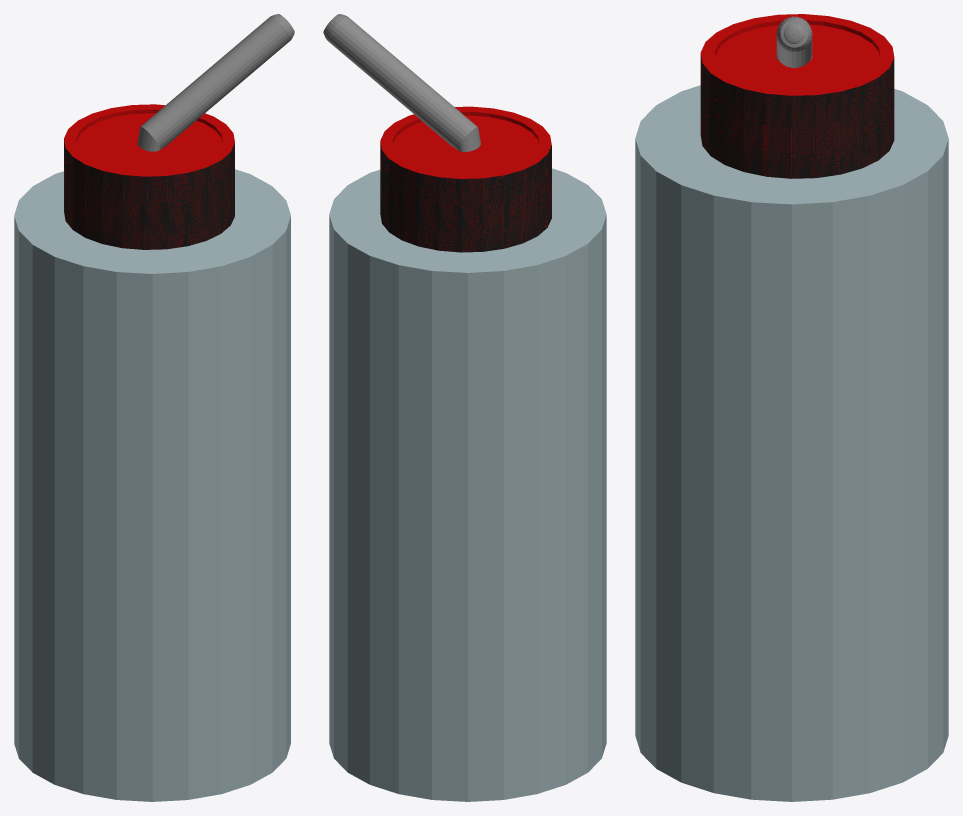
3 renders of one model, left to right at view 1: azimuth 30°, elevation 25°; view 2: azimuth 150°, elevation 25°; view 3: azimuth 270°, elevation 25°, orthographic. The views are drawn at different scales.
Visible parts, largest first — view 1: mesh1.001_mesh1-geometry, mesh2.002_mesh2-geometry, mesh3.002_mesh3-geometry; view 2: mesh1.001_mesh1-geometry, mesh2.002_mesh2-geometry, mesh3.002_mesh3-geometry; view 3: mesh1.001_mesh1-geometry, mesh2.002_mesh2-geometry, mesh3.002_mesh3-geometry.
Boxes of the visible parts, bbox=[...] form: mesh1.001_mesh1-geometry: bbox=[14, 169, 290, 801]; mesh2.002_mesh2-geometry: bbox=[64, 104, 234, 249]; mesh3.002_mesh3-geometry: bbox=[137, 14, 294, 151]; mesh1.001_mesh1-geometry: bbox=[329, 168, 606, 801]; mesh2.002_mesh2-geometry: bbox=[380, 106, 551, 252]; mesh3.002_mesh3-geometry: bbox=[323, 14, 480, 151]; mesh1.001_mesh1-geometry: bbox=[635, 85, 948, 801]; mesh2.002_mesh2-geometry: bbox=[700, 14, 894, 178]; mesh3.002_mesh3-geometry: bbox=[776, 16, 812, 67].
Bounding box in the file's own units: 0.3455 × 0.8828 × 0.3183.
